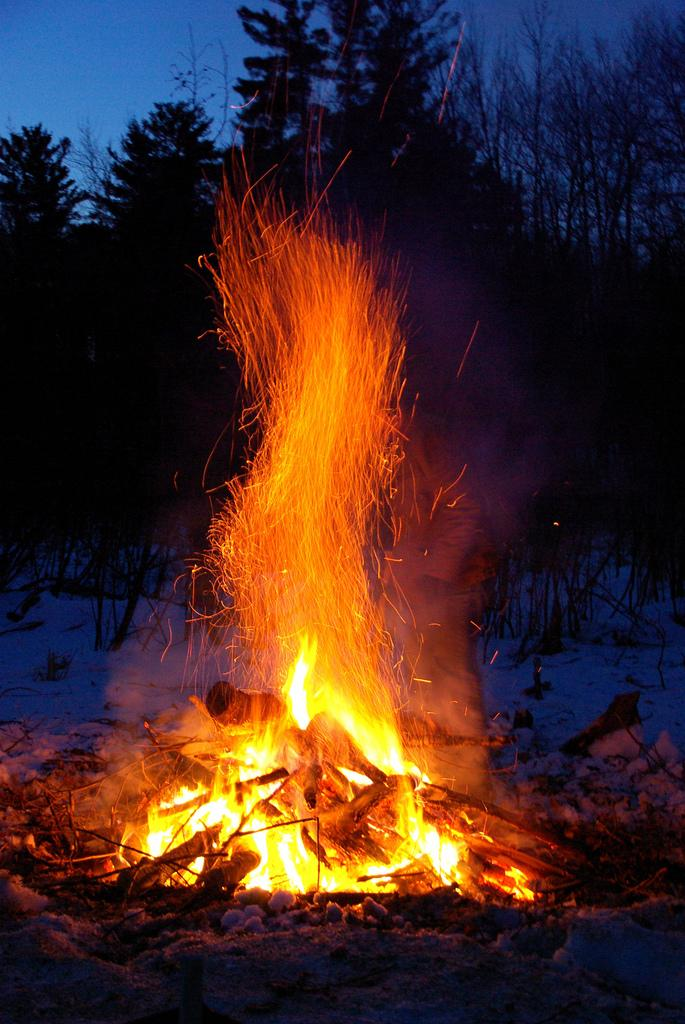fire: (242, 805, 320, 898), (275, 628, 325, 742), (355, 698, 390, 792), (412, 835, 458, 882)
